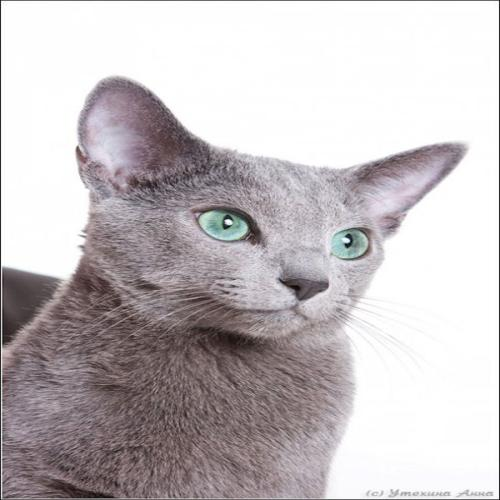rblue: (71, 71, 468, 359)
